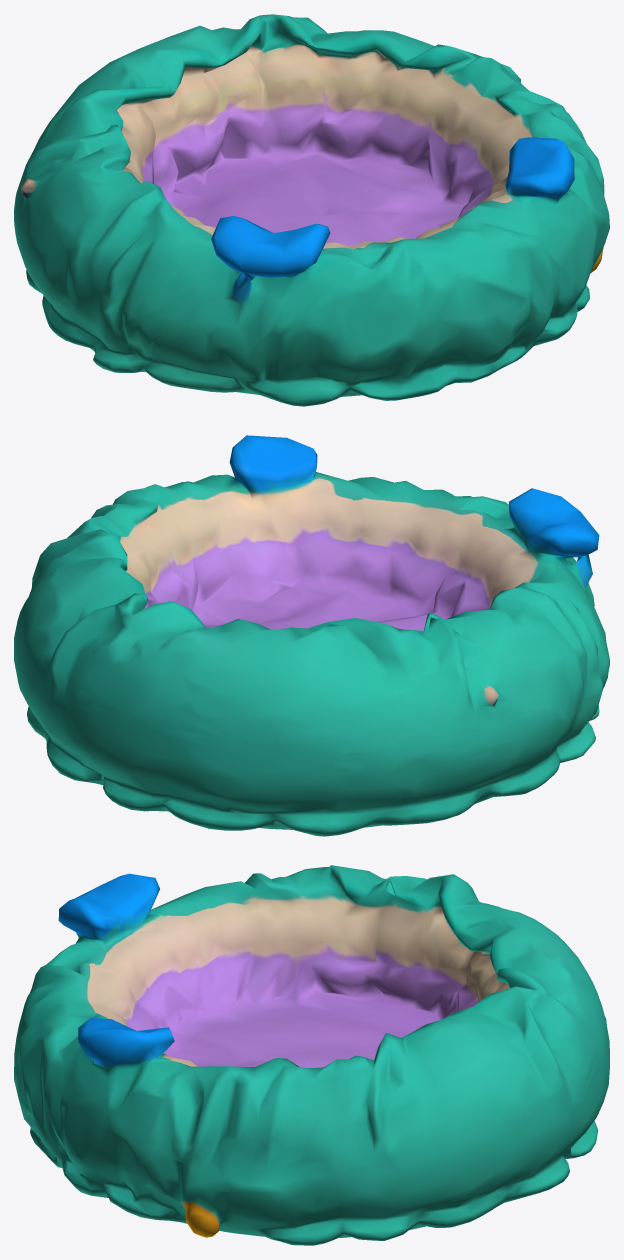
The model's file is cama de gato 3d.glb.
The picture shows the model from 3 angles, top to bottom: view 1: azimuth 30°, elevation 25°; view 2: azimuth 150°, elevation 25°; view 3: azimuth 270°, elevation 25°; orthographic projection.
Parts seen in each view (by area): view 1: tripo_node_7dc08317-8264-48a3-9d36-3276e406599f; view 2: tripo_node_7dc08317-8264-48a3-9d36-3276e406599f; view 3: tripo_node_7dc08317-8264-48a3-9d36-3276e406599f.
Part boxes in pixels (x1,y1,x2,y2): tripo_node_7dc08317-8264-48a3-9d36-3276e406599f: [14, 14, 609, 406]; tripo_node_7dc08317-8264-48a3-9d36-3276e406599f: [14, 435, 609, 836]; tripo_node_7dc08317-8264-48a3-9d36-3276e406599f: [14, 865, 609, 1245].
Bounding box in the file's own units: 0.9998 × 0.3653 × 1.
Materials: 1 (1 with a texture image).
